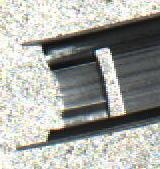press: (15, 19, 148, 154)
